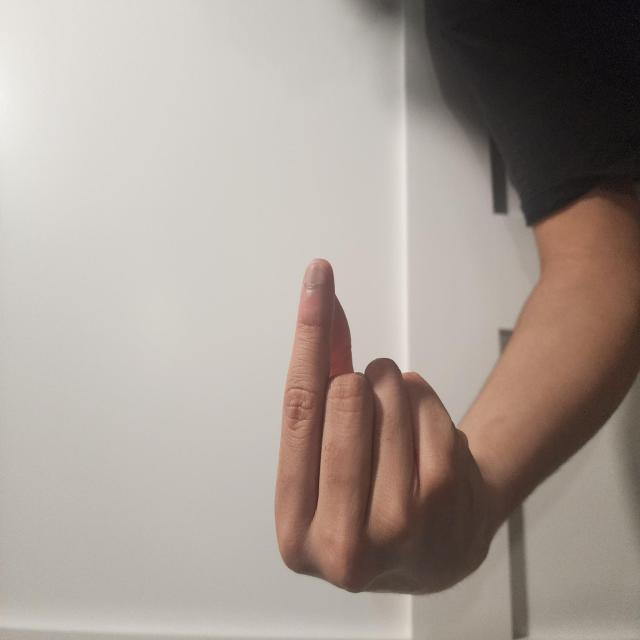Q: (31, 363, 288, 640)
